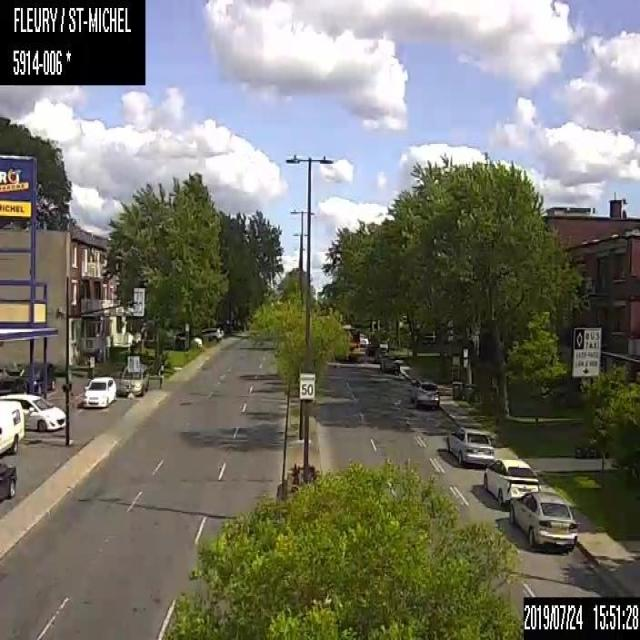pedestrian: (158, 360, 165, 389)
vehicle: (507, 488, 578, 548), (481, 456, 539, 506), (0, 392, 66, 432), (443, 424, 495, 466), (0, 400, 25, 459), (12, 363, 55, 393), (82, 374, 116, 409), (118, 359, 149, 396), (406, 375, 439, 408), (0, 454, 17, 509), (201, 327, 224, 343), (376, 358, 398, 373)
